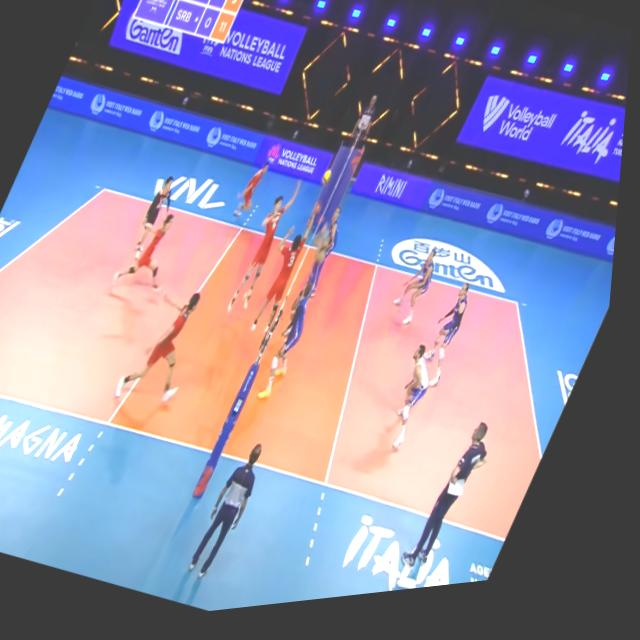player: (123, 282, 226, 421), (247, 203, 331, 347), (231, 178, 311, 323), (112, 203, 199, 309), (419, 289, 488, 401), (382, 354, 452, 460), (263, 295, 326, 407), (393, 254, 450, 340), (132, 175, 185, 264), (295, 232, 347, 318), (233, 160, 278, 228), (318, 210, 357, 268)
